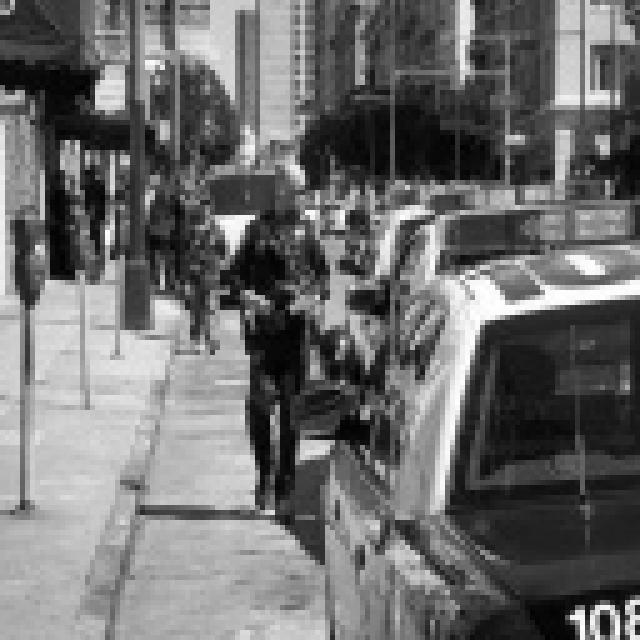Rifle: (245, 188, 355, 378)
